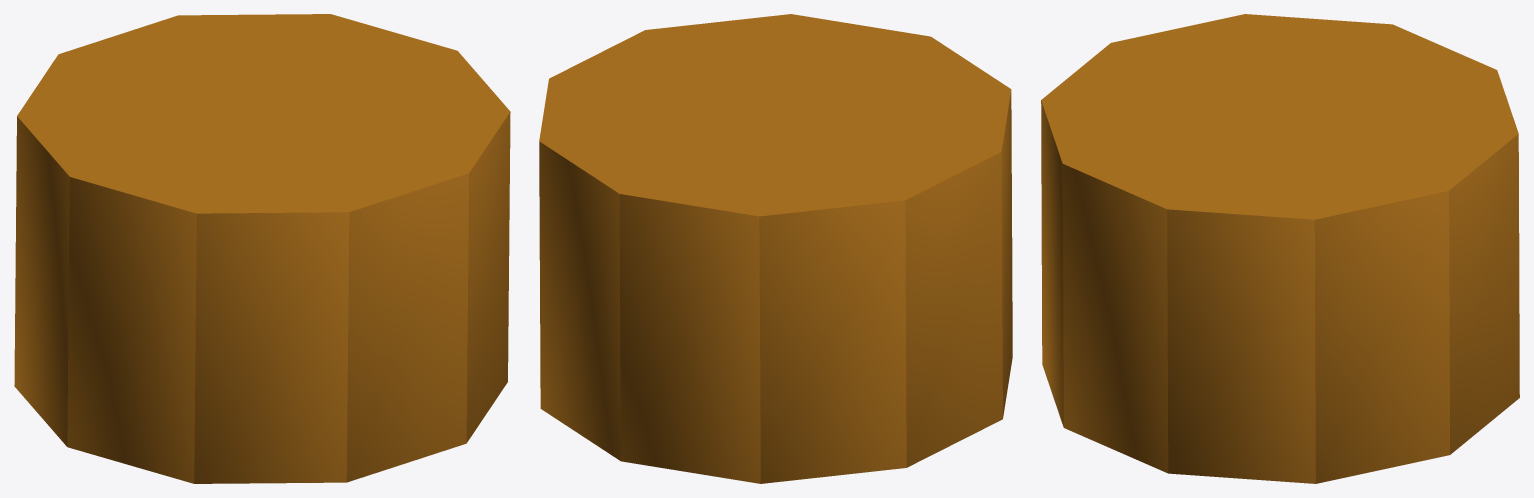
File: Blocker_Edge_Ring_B.fbx
3 views of the same model, side by side, from view 1: azimuth 30°, elevation 25°; view 2: azimuth 150°, elevation 25°; view 3: azimuth 270°, elevation 25° (orthographic).
Visible parts, largest first — view 1: Blocker_Edge_Ring_B; view 2: Blocker_Edge_Ring_B; view 3: Blocker_Edge_Ring_B.
Part boxes in pixels (box(x1,y1,x2,y2)): Blocker_Edge_Ring_B: box(14, 14, 510, 483); Blocker_Edge_Ring_B: box(539, 14, 1012, 483); Blocker_Edge_Ring_B: box(1041, 14, 1519, 483).
Bounding box in the file's own units: 1.07 × 0.66 × 1.06.
